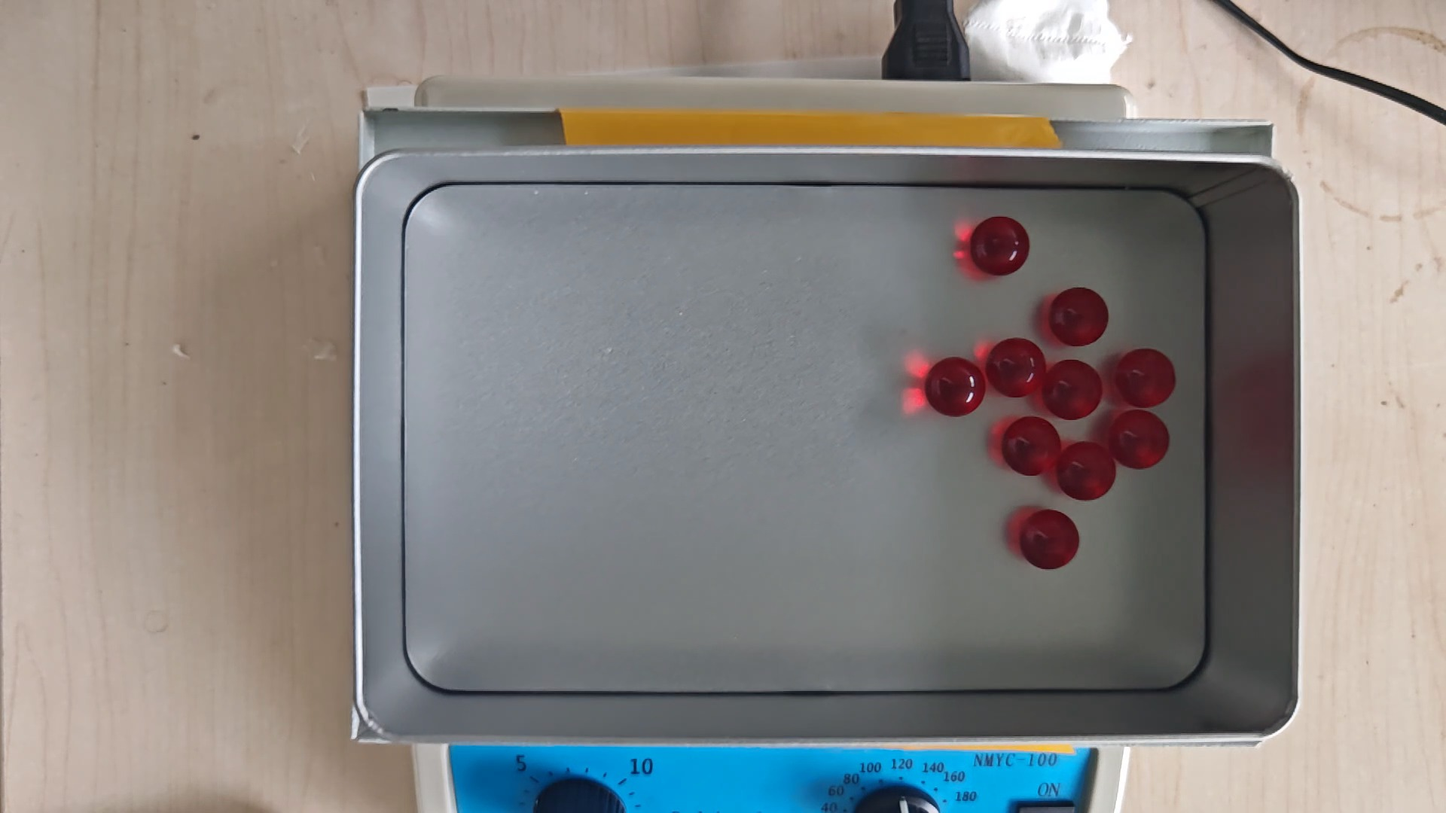ball: (1108, 410, 1171, 471), (925, 356, 986, 418), (1049, 286, 1109, 347), (1115, 348, 1176, 408), (1002, 416, 1062, 477), (1020, 509, 1080, 570), (987, 337, 1046, 398), (1057, 441, 1116, 502), (971, 216, 1030, 276), (1044, 360, 1103, 419)
container: (403, 184, 1207, 693)
